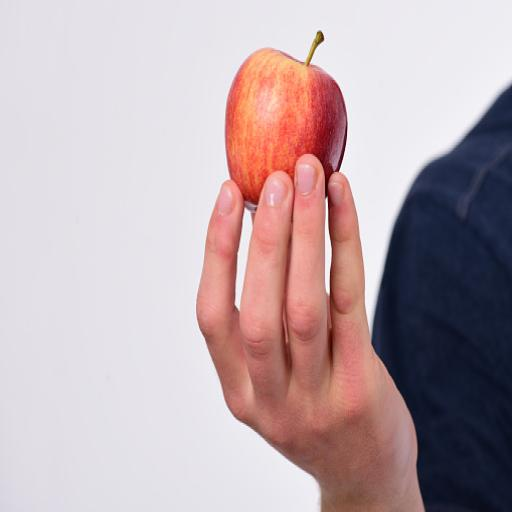apple: (226, 32, 347, 211)
